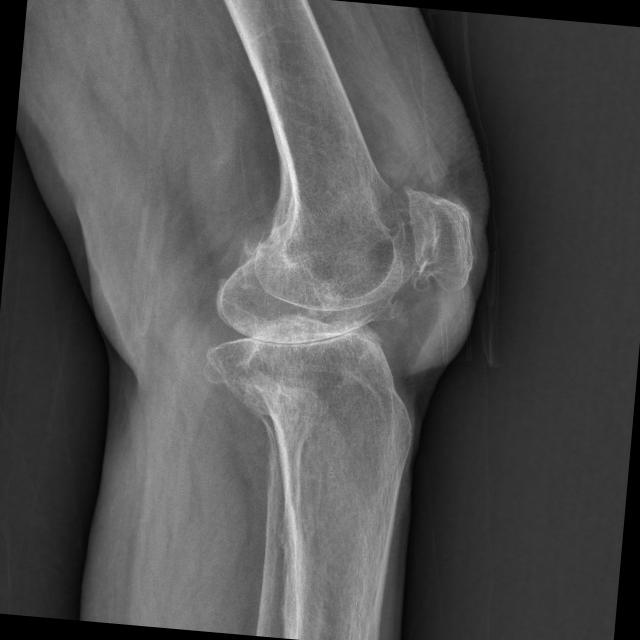Knee: (211, 173, 478, 410)
